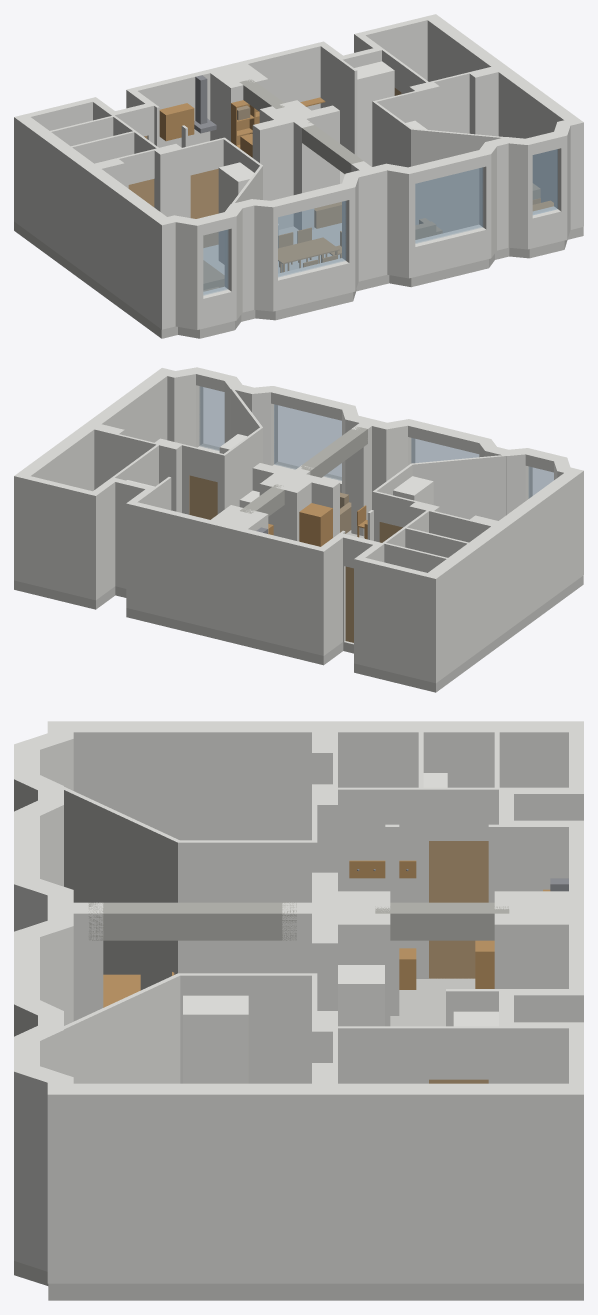
File: V2_ORBITE.glb
3 renders of one model, top to bottom at view 1: azimuth 30°, elevation 25°; view 2: azimuth 150°, elevation 25°; view 3: azimuth 270°, elevation 25°, orthographic. The views are drawn at different scales.
Visible parts, largest first — view 1: 100003, 100029, 100002, 100045, 100020, 100051, 100057, 100059, 100016, 100041, 100035, 100011 (+53 smaller); view 2: 100003, 100004, 100030, 100035, 100008, 100029, 100002, 100054, 100027, 100059, 100031, 100006 (+43 smaller); view 3: 100029, 100003, 100027, 100002, 100023, 100051, 100048, 100026, 100054, 100078, 100040, 100118 (+42 smaller).
Part boxes in pixels (x1,y1,x2,y2): 100003: (14,117,166,329); 100029: (427,14,583,202); 100002: (14,171,583,338); 100045: (408,150,491,278); 100020: (271,183,355,311); 100051: (411,128,505,233); 100057: (278,201,346,277); 100059: (415,167,482,243); 100016: (196,212,236,329); 100041: (525,132,567,249); 100035: (244,41,323,110); 100011: (252,118,295,229); 100003: (428,470,583,682); 100004: (354,558,435,683); 100030: (14,476,95,600); 100035: (126,502,209,626); 100008: (243,529,323,655); 100029: (14,368,167,491); 100002: (14,530,583,692); 100054: (206,505,268,636); 100027: (411,455,505,520); 100059: (274,404,341,480); 100031: (93,480,115,599); 100006: (321,536,342,655); 100029: (47,1083,583,1283); 100003: (48,721,583,840); 100027: (64,787,179,990); 100002: (14,978,583,1300); 100023: (338,787,498,978); 100051: (64,973,180,1083); 100048: (338,1026,498,1083); 100026: (178,840,261,973); 100054: (494,891,583,988); 100078: (88,902,296,940); 100040: (14,1066,72,1271); 100118: (183,995,248,1083).
Size of the model in its own units: 11.85 by 3.05 by 7.65.
